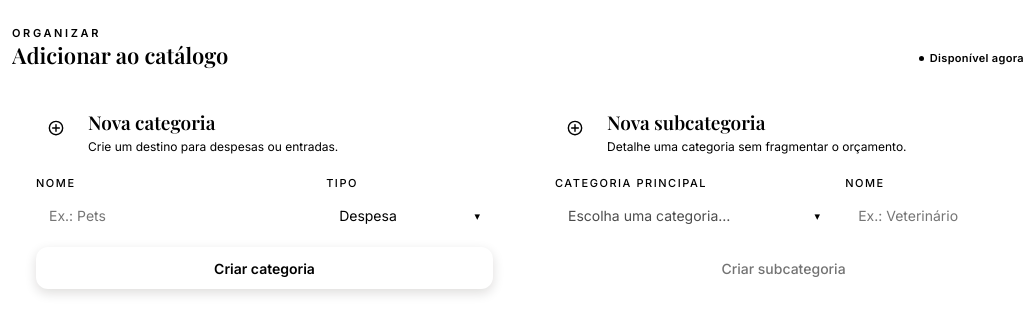
Scenario: CategoryCreationPanel › shows the already-exists message without success tone and keeps the form
Type "alimentacao" into the field named "Nome da categoria". click: (175, 216)
box: top-left (36, 196), bottom-right (314, 235)
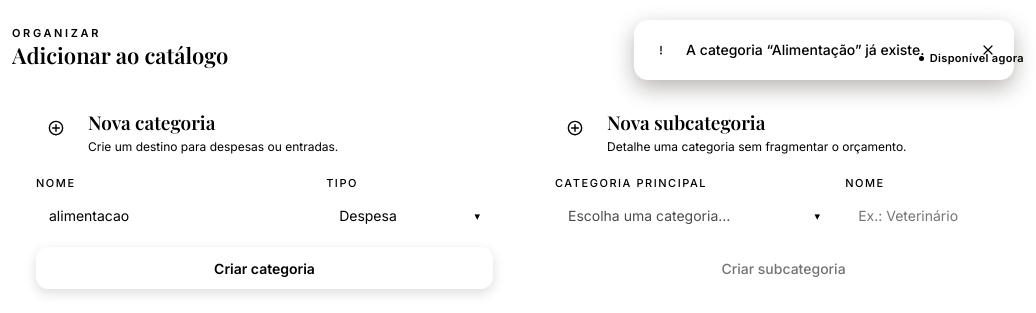
Check: the message with class "ff-toast" reads "A categoria “Alimentação” já existe.", box top-left (686, 41), bottom-right (924, 58)
